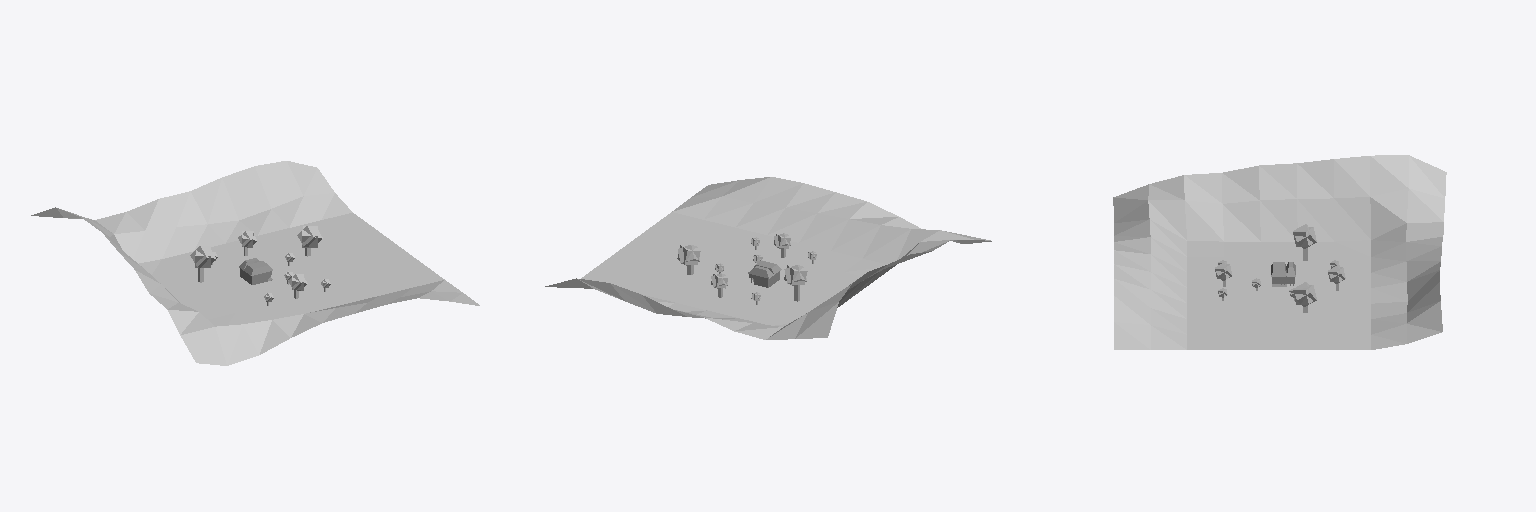
The model's file is Demo.obj.
3 renders of one model, left to right at view 1: azimuth 30°, elevation 25°; view 2: azimuth 150°, elevation 25°; view 3: azimuth 270°, elevation 25°, orthographic.
Visible parts, largest first — view 1: Grid, Cube.001; view 2: Grid, Cube.001; view 3: Grid, Cube.001.
Boxes of the visible parts, <box> form: Grid: <box>31,161,479,365</box>; Cube.001: <box>239,258,272,284</box>; Grid: <box>545,177,991,339</box>; Cube.001: <box>748,261,781,287</box>; Grid: <box>1113,155,1446,349</box>; Cube.001: <box>1271,262,1295,286</box>.
Bounding box in the file's own units: 105 × 26.11 × 106.